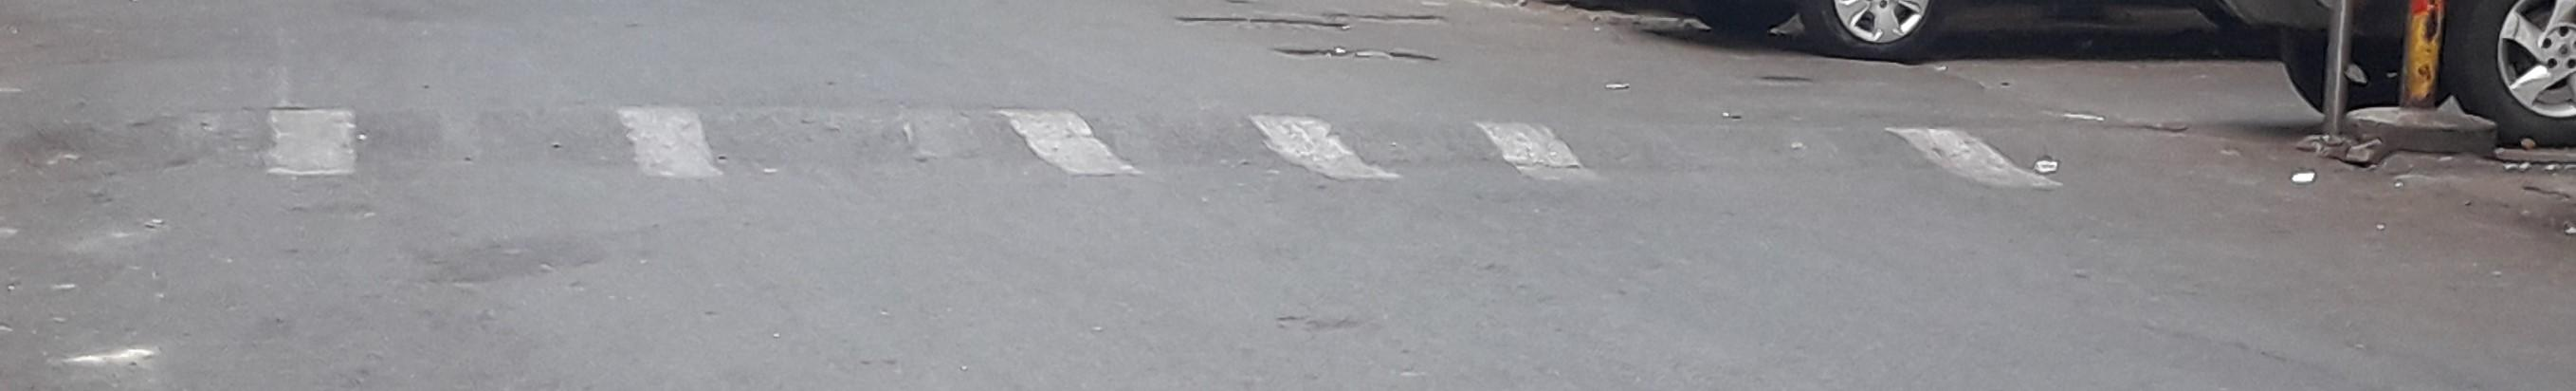speed-bump: (13, 93, 2282, 194)
